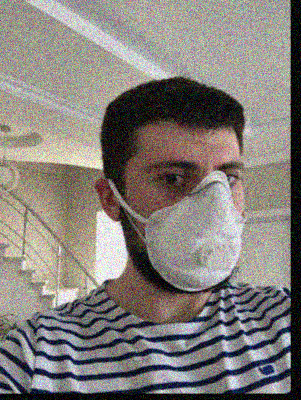with_mask: (141, 144, 245, 293)
